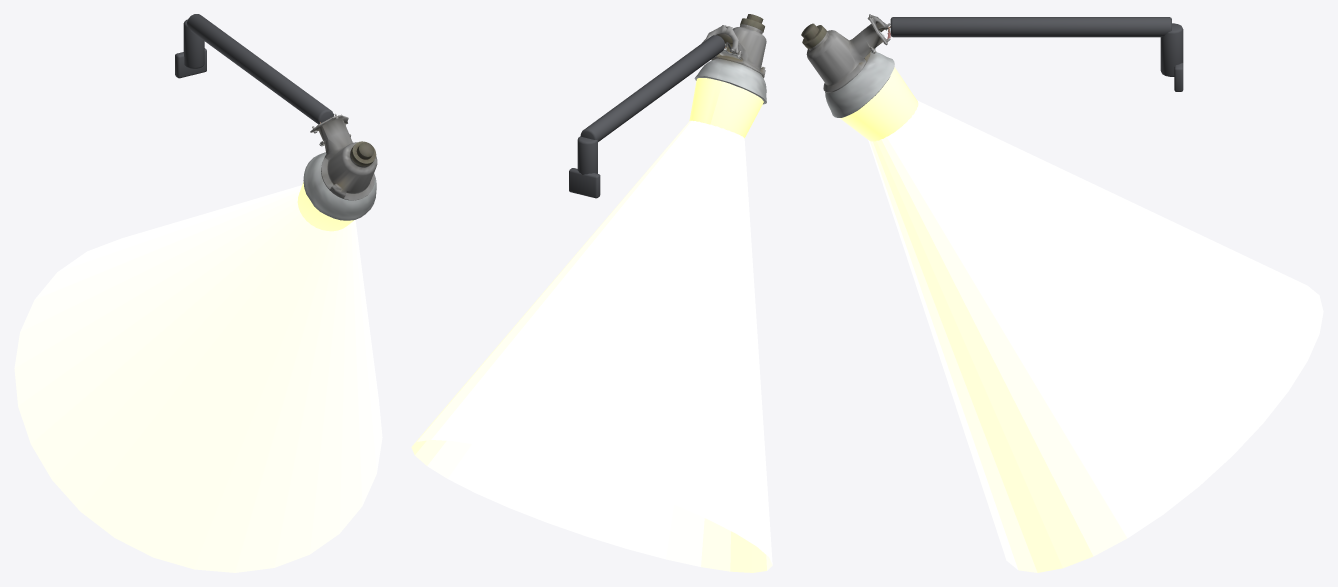
The model's file is KFB_BillboardLamp_arm.r3.glb.
The picture shows the model from 3 angles, left to right: view 1: azimuth 30°, elevation 25°; view 2: azimuth 150°, elevation 25°; view 3: azimuth 270°, elevation 25°; orthographic projection. The views are drawn at different scales.
Parts seen in each view (by area): view 1: KFB_Glow_wedge_1, KFB_Lamp_flood_1, lamp_arm_1; view 2: KFB_Glow_wedge_1, KFB_Lamp_flood_1, lamp_arm_1; view 3: KFB_Glow_wedge_1, KFB_Lamp_flood_1, lamp_arm_1.
Boxes of the visible parts, x1,y1,x2,y2 form: KFB_Glow_wedge_1: [14, 185, 382, 572]; KFB_Lamp_flood_1: [297, 113, 377, 231]; lamp_arm_1: [175, 14, 333, 124]; KFB_Glow_wedge_1: [411, 120, 772, 572]; KFB_Lamp_flood_1: [689, 14, 766, 138]; lamp_arm_1: [569, 35, 724, 198]; KFB_Glow_wedge_1: [868, 100, 1323, 572]; KFB_Lamp_flood_1: [801, 14, 918, 141]; lamp_arm_1: [890, 17, 1183, 91].
Size of the model in its own units: 1.83 by 2.59 by 2.32.
4 materials, 1 textured.
